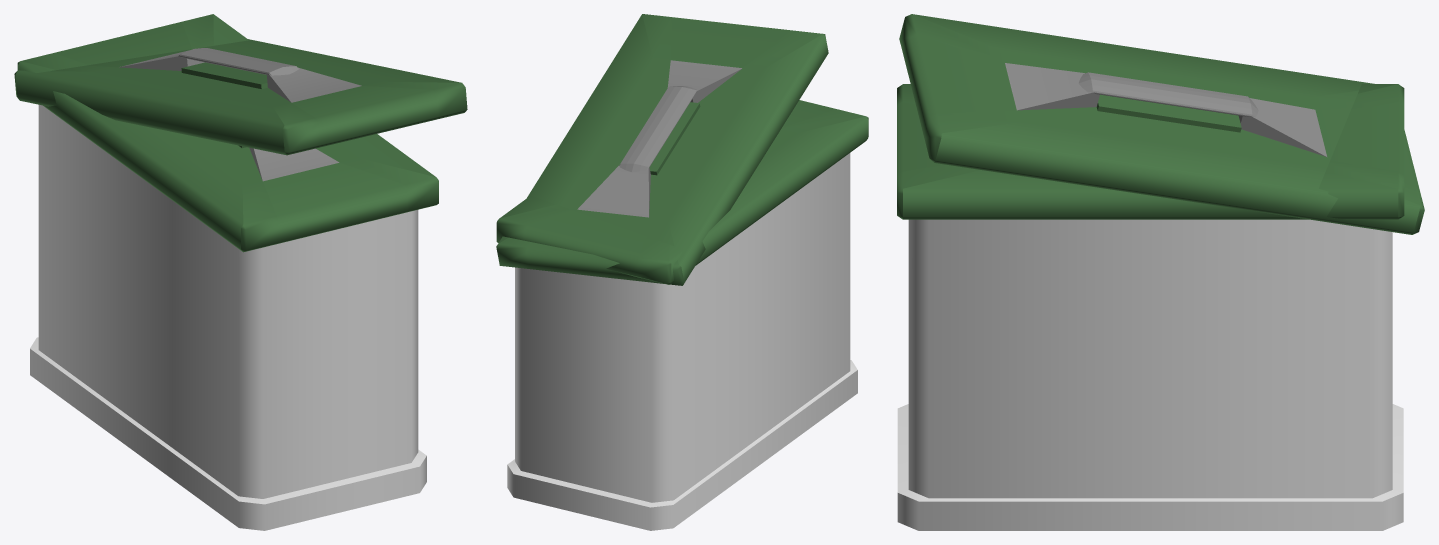
Rendered from AmmoBox 1.fbx.
The picture shows the model from 3 angles, left to right: view 1: azimuth 30°, elevation 25°; view 2: azimuth 150°, elevation 25°; view 3: azimuth 270°, elevation 25°; orthographic projection. The views are drawn at different scales.
Parts seen in each view (by area): view 1: Cube.004, Cube.003, Cube.005; view 2: Cube.004, Cube.005, Cube.003; view 3: Cube.004, Cube.005, Cube.003.
Part boxes in pixels (x1,y1,x2,y2): Cube.004: (30,104,426,530); Cube.003: (17,14,438,252); Cube.005: (14,39,467,155); Cube.004: (507,153,857,530); Cube.005: (496,14,828,285); Cube.003: (496,100,868,284); Cube.004: (897,219,1403,530); Cube.005: (899,14,1424,234); Cube.003: (897,84,1404,219).
Size of the model in its own units: 276 by 419 by 458.
